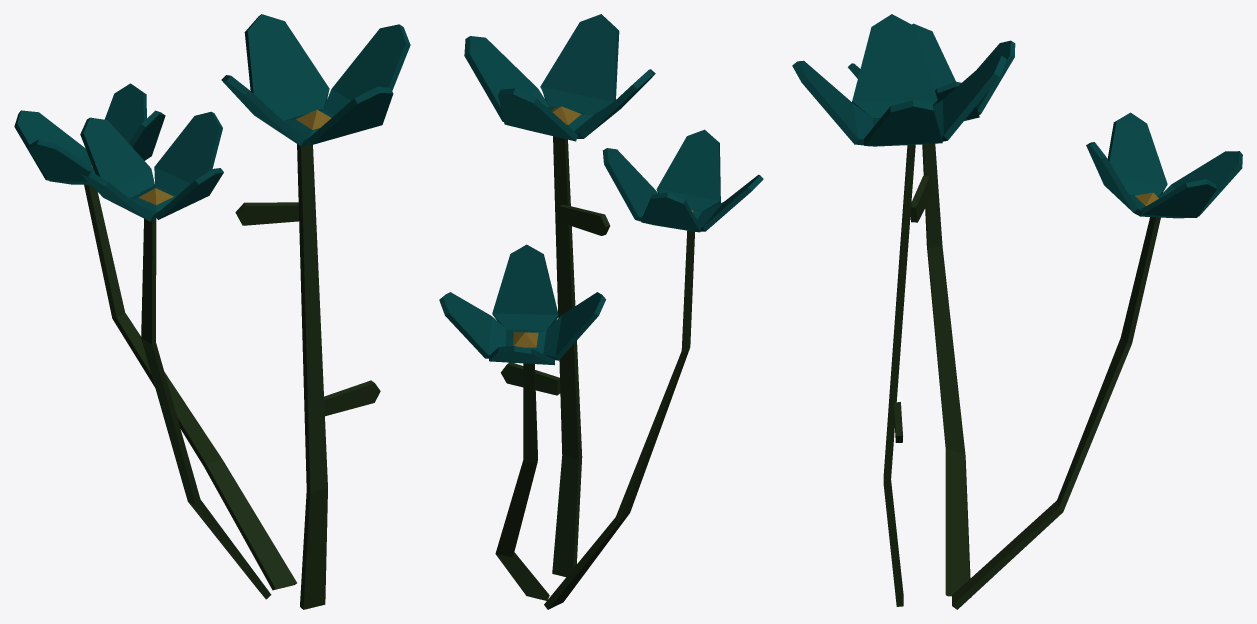
Rendered from Flowers.obj.
3 views of the same model, side by side, from view 1: azimuth 30°, elevation 25°; view 2: azimuth 150°, elevation 25°; view 3: azimuth 270°, elevation 25° (orthographic). The views are drawn at different scales.
Parts seen in each view (by area): view 1: Flowers; view 2: Flowers; view 3: Flowers.
Part boxes in pixels (box(x1,y1,x2,y2)): Flowers: box(14, 14, 410, 609); Flowers: box(439, 14, 763, 609); Flowers: box(792, 14, 1242, 609).
Bounding box in the file's own units: 0.4895 × 0.8289 × 0.6137.
